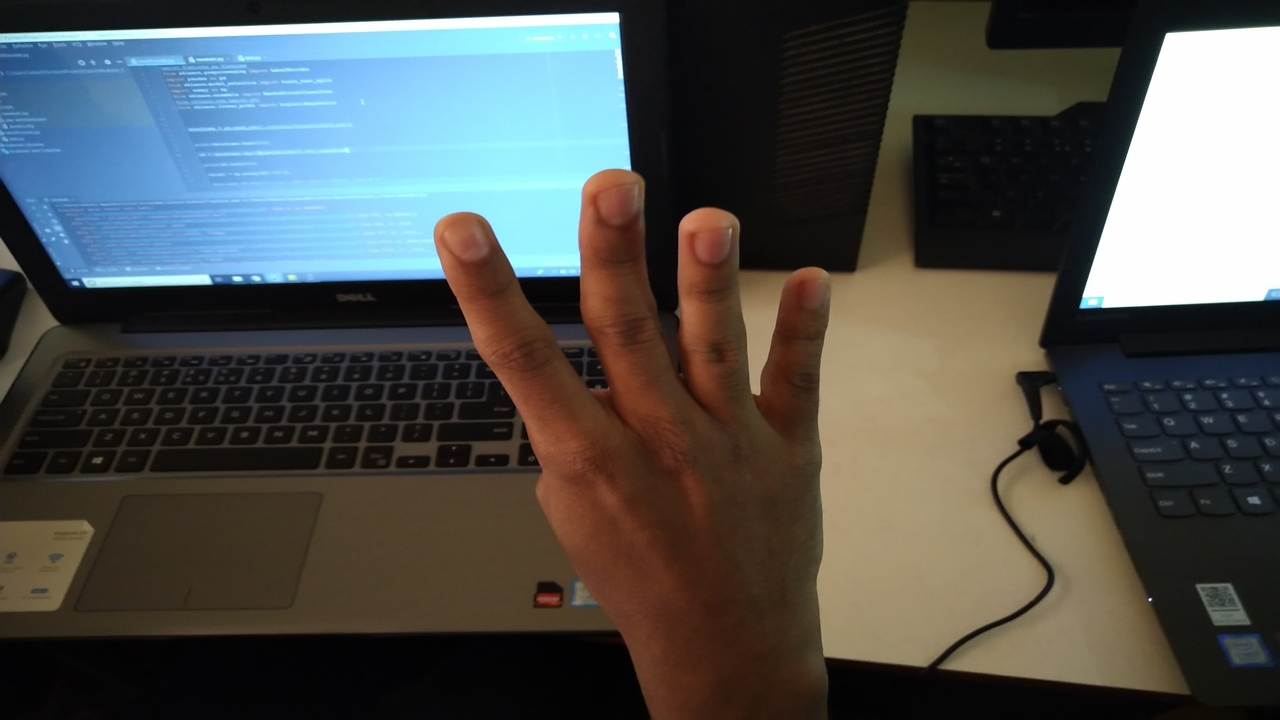fingertip: (568, 164, 646, 232), (426, 210, 500, 276), (678, 208, 742, 268), (778, 258, 836, 320)
